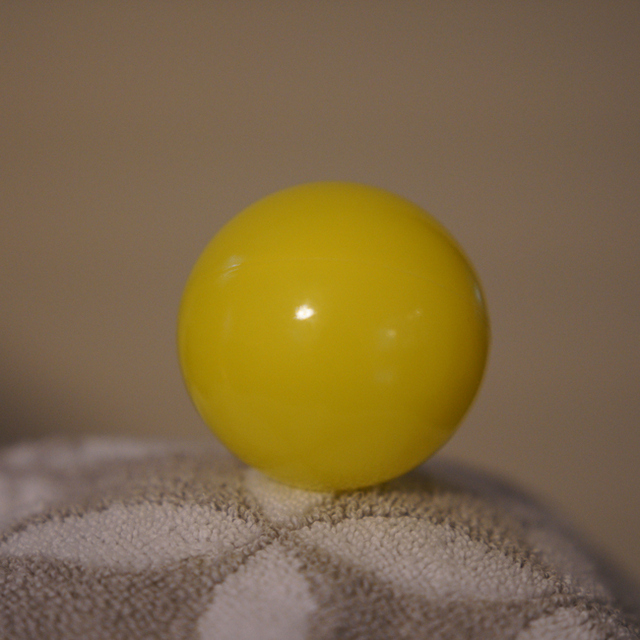Ball: (181, 180, 488, 479)
